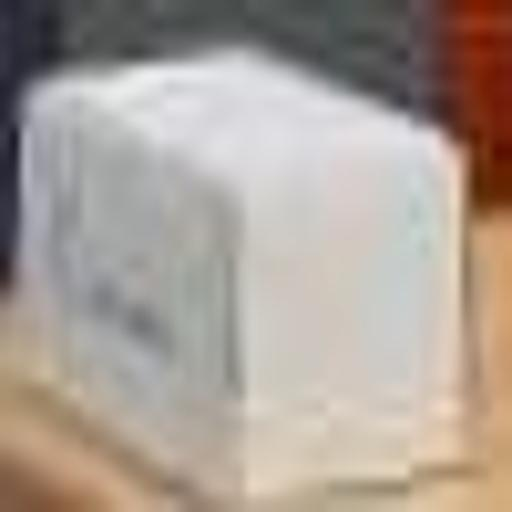Other: (18, 72, 463, 481)
